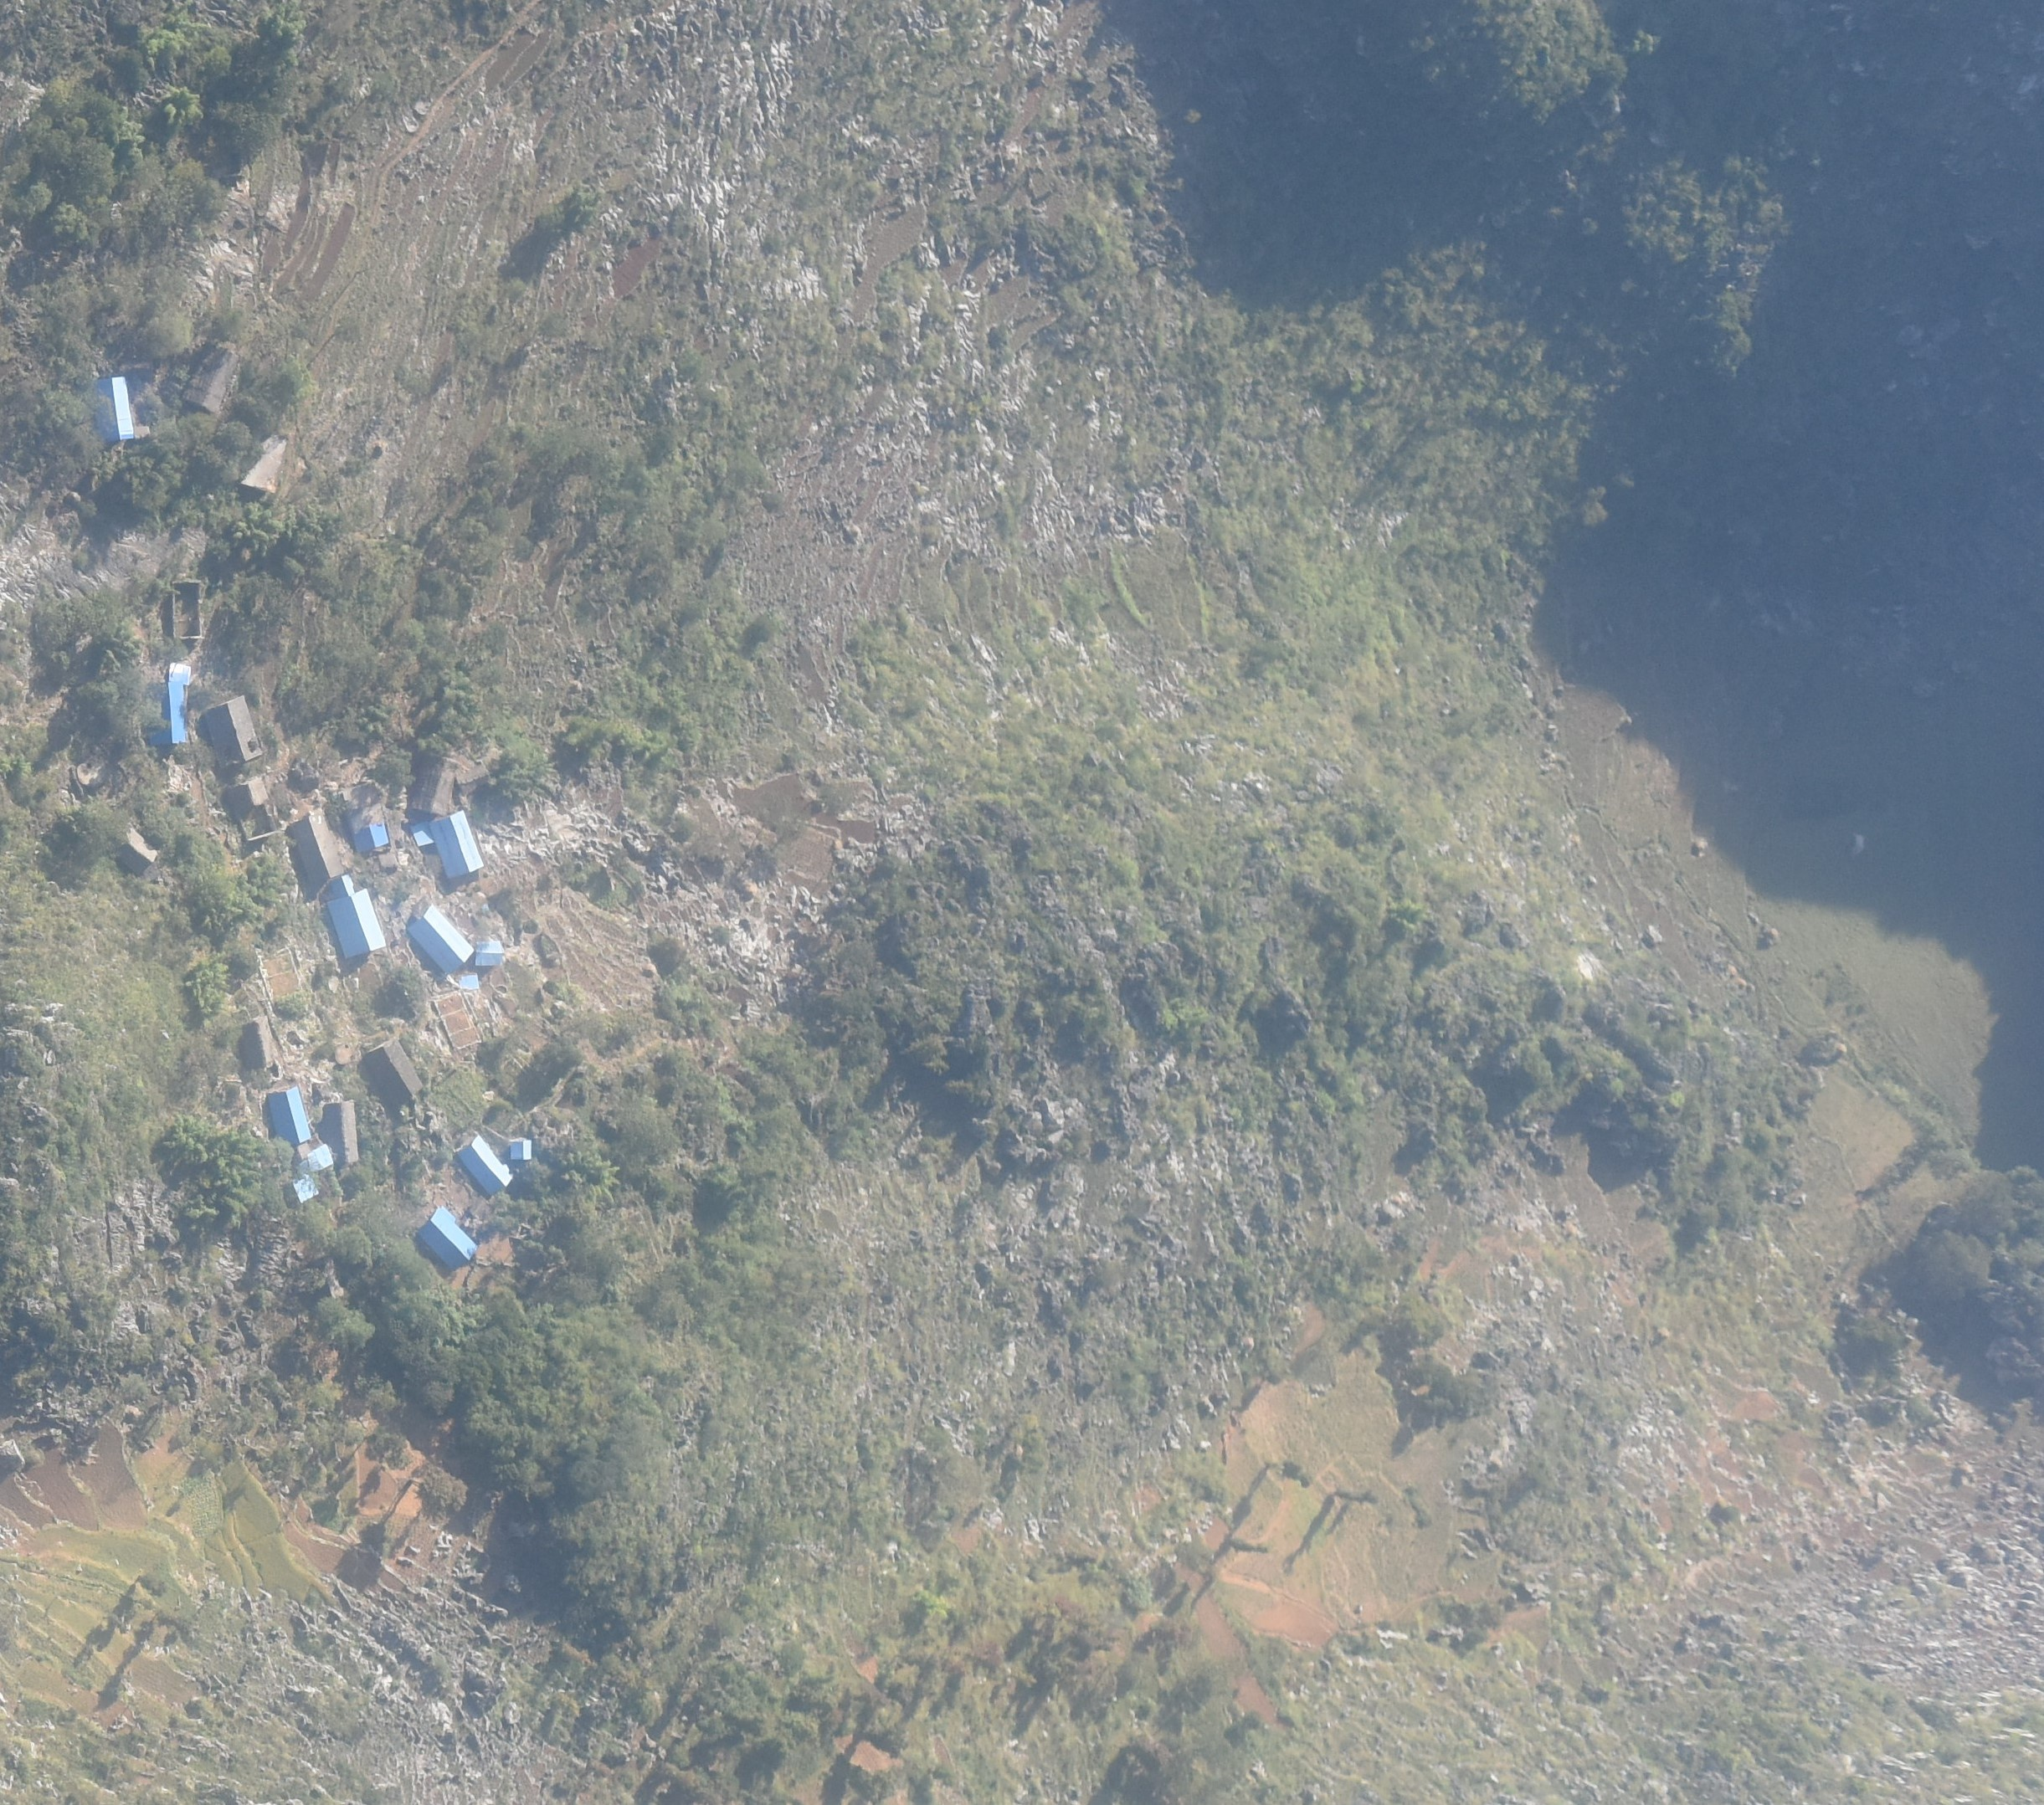building: (207, 693, 263, 768), (179, 341, 239, 409), (366, 1038, 423, 1105), (293, 814, 342, 885), (240, 429, 286, 495), (413, 756, 462, 817), (118, 824, 160, 878), (324, 1101, 357, 1164), (174, 580, 204, 638), (244, 1019, 277, 1066), (230, 779, 268, 808), (457, 765, 490, 791)
prefabricated-house: (411, 904, 474, 974), (328, 890, 387, 963), (430, 810, 484, 880), (418, 1211, 477, 1272), (458, 1132, 511, 1195), (92, 375, 134, 444), (268, 1087, 310, 1150), (150, 683, 190, 742), (354, 822, 389, 852), (474, 939, 507, 967), (303, 1143, 333, 1171), (411, 819, 436, 850), (291, 1176, 319, 1202), (328, 876, 357, 899), (169, 662, 192, 685), (511, 1138, 531, 1160), (460, 976, 479, 991)
well: (336, 1045, 354, 1068)
